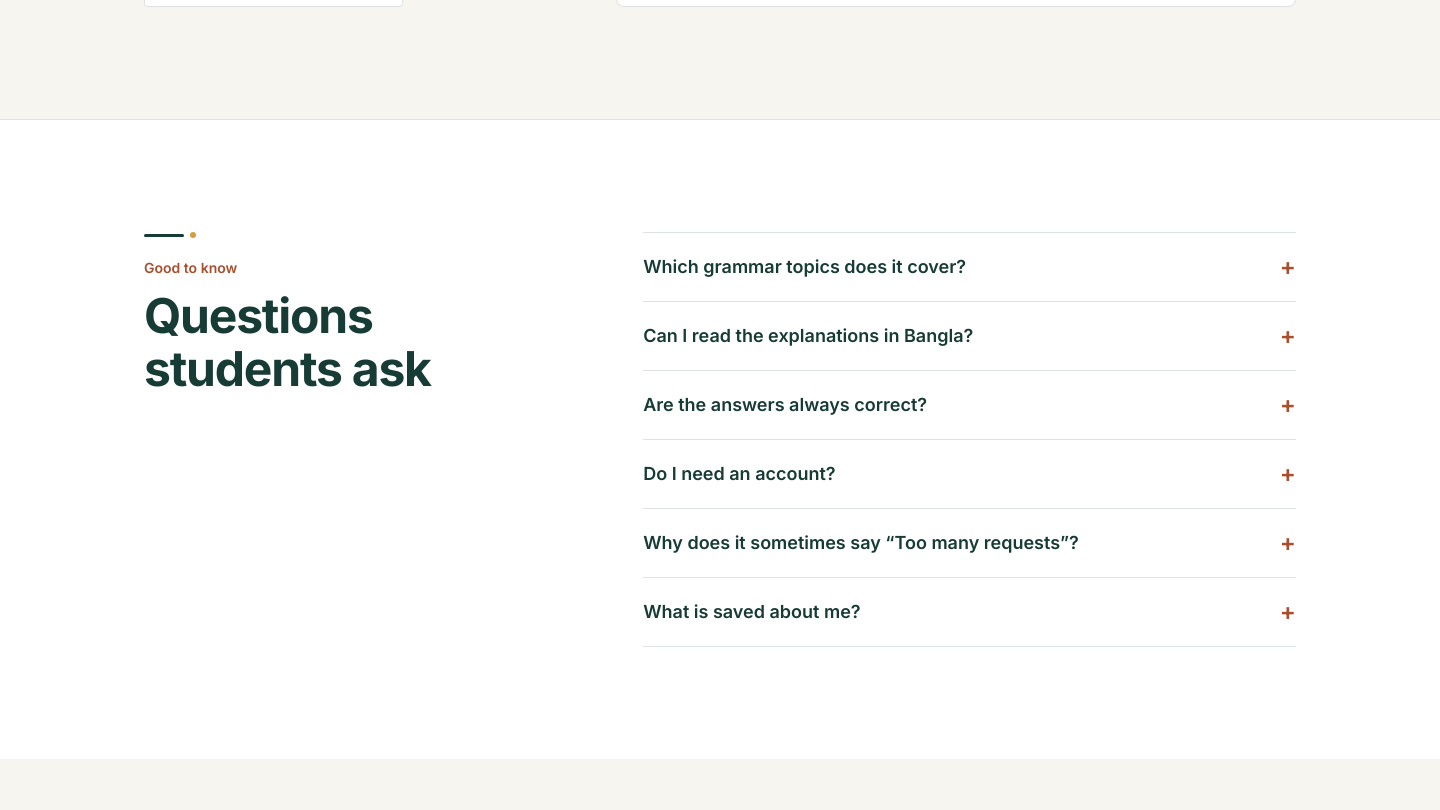
Scenario: Story sections › answers common questions honestly
(page scrolled)
Click the heading "Are the answers always correct? +" at (785, 405), box [643, 390, 1296, 419]
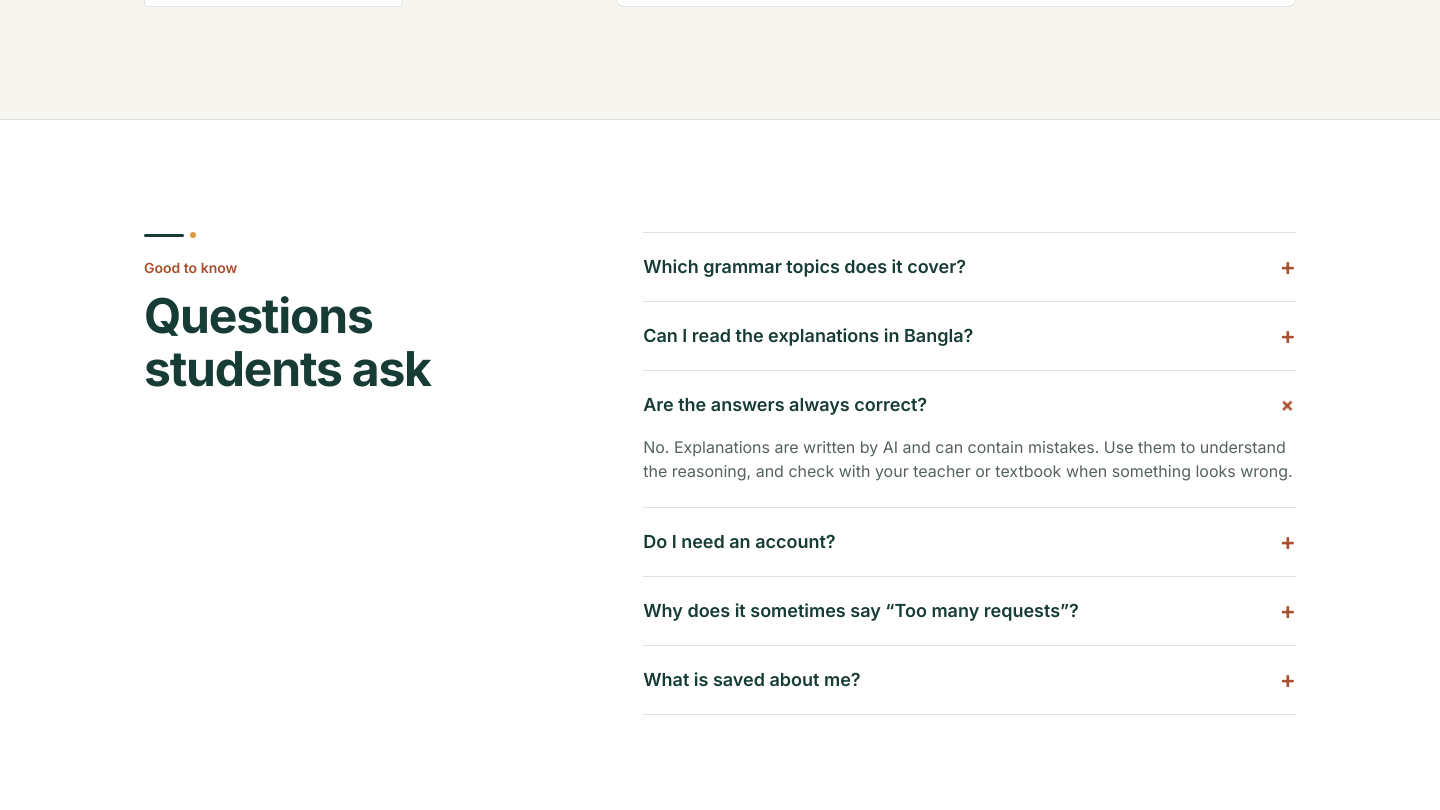
Check: the text "Explanations are written by AI and can contain mistakes" is shown, box [643, 437, 1293, 481]
